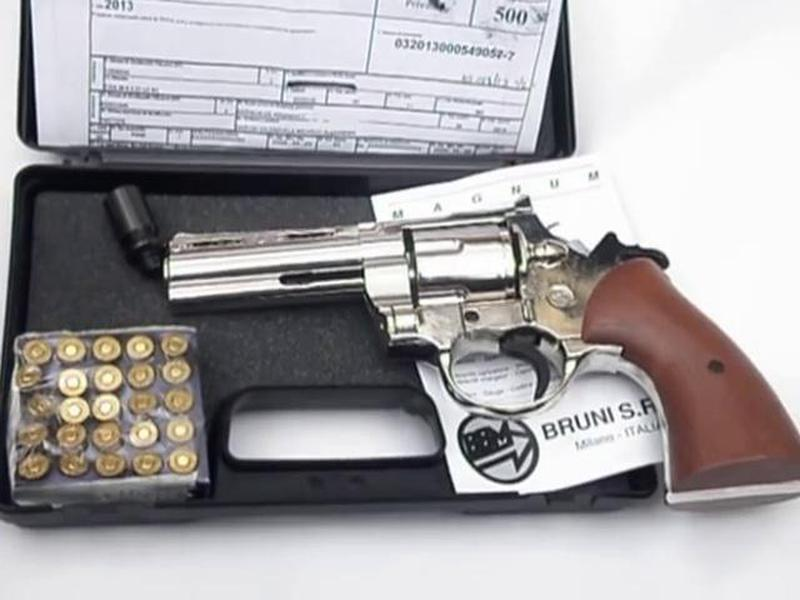Revolver: (165, 225, 797, 427)
